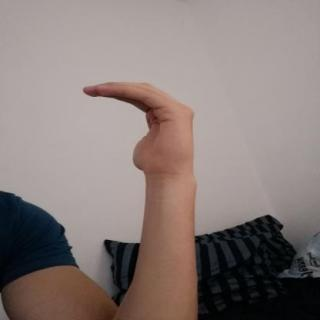HAA: (70, 71, 212, 185)
